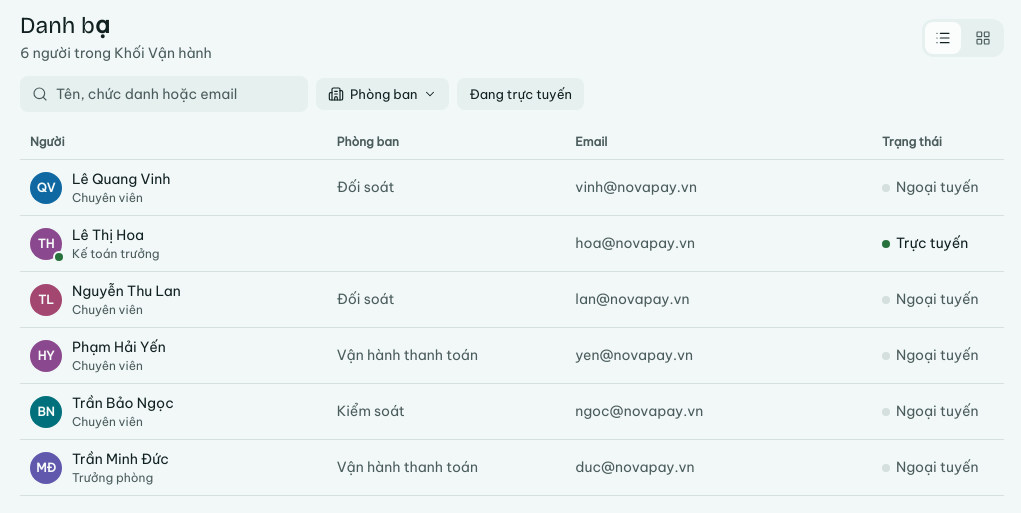
it: ContactsScreen: suggestions in the empty search box › offers recent searches and the people one messaged lately, latest first, and never an id
Expected: the button "Trần Minh Đức" is shown, [72, 449, 169, 470]
Click the dropdown labelled "Tên, chức danh hoặc email": (176, 94) [56, 76, 296, 112]
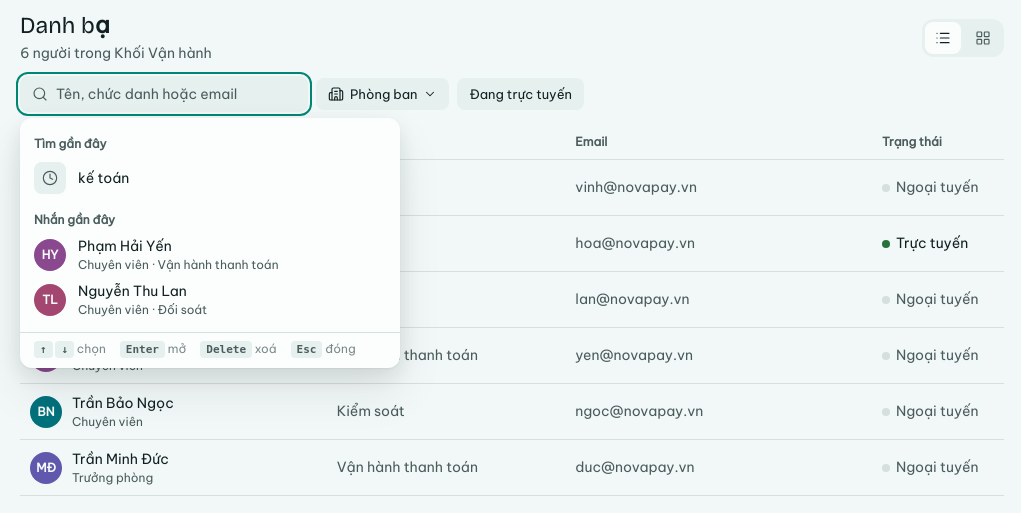
Expected: the option "kế toán" is shown, [34, 162, 129, 194]
